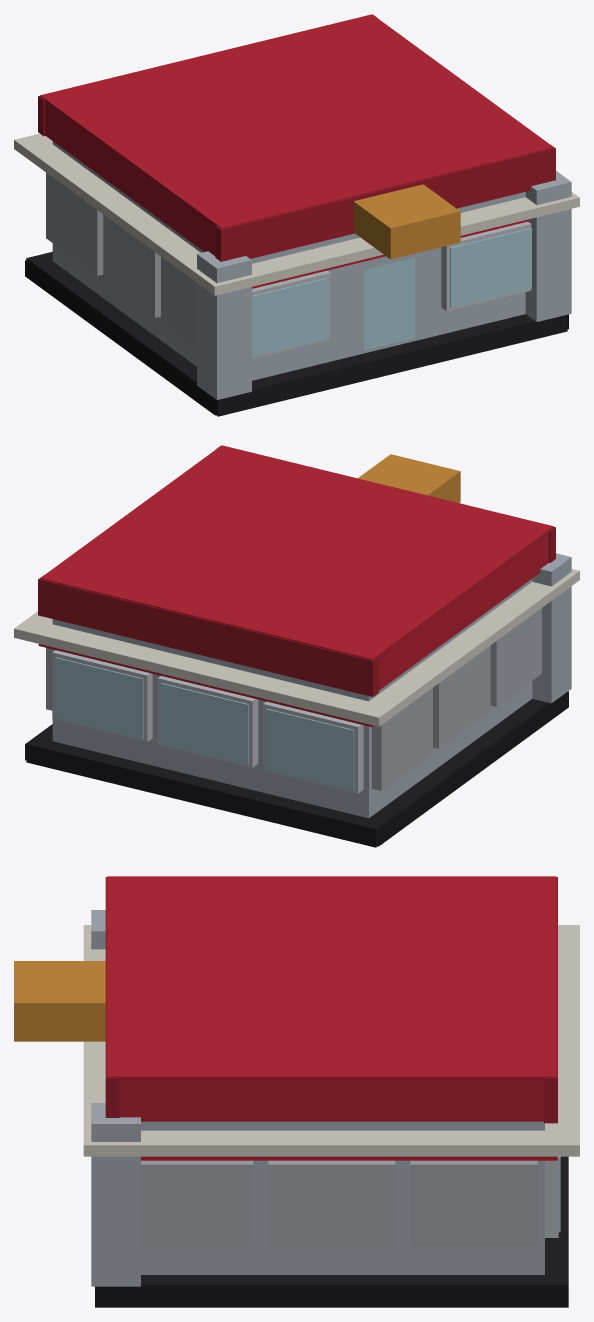
Rendered from TrophyBurgerSil.fbx.
3 views of the same model, one above another, from view 1: azimuth 30°, elevation 25°; view 2: azimuth 150°, elevation 25°; view 3: azimuth 270°, elevation 25° (orthographic). The views are drawn at different scales.
Visible parts, largest first — view 1: TB_S_All; view 2: TB_S_All; view 3: TB_S_All.
Part boxes in pixels (<box>): TB_S_All: <box>14,14,579,416</box>; TB_S_All: <box>14,445,579,847</box>; TB_S_All: <box>14,876,579,1307</box>.
Size of the model in its own units: 41.84 by 20 by 45.44.
